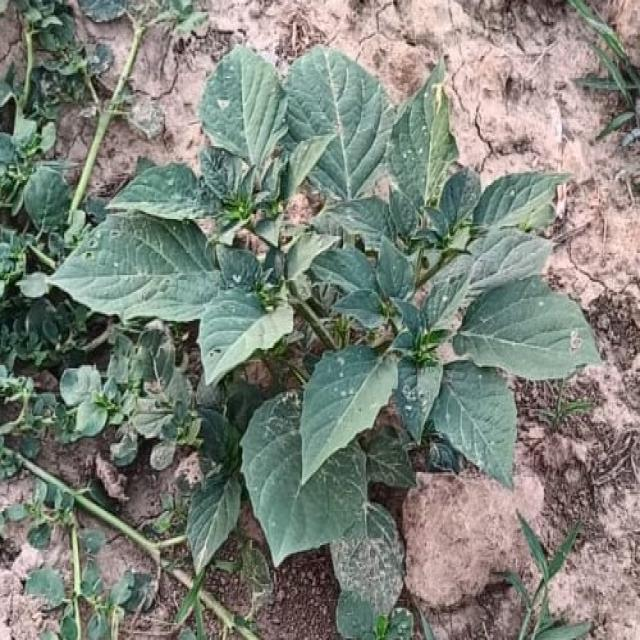weed: (50, 48, 600, 624), (49, 46, 600, 616)
